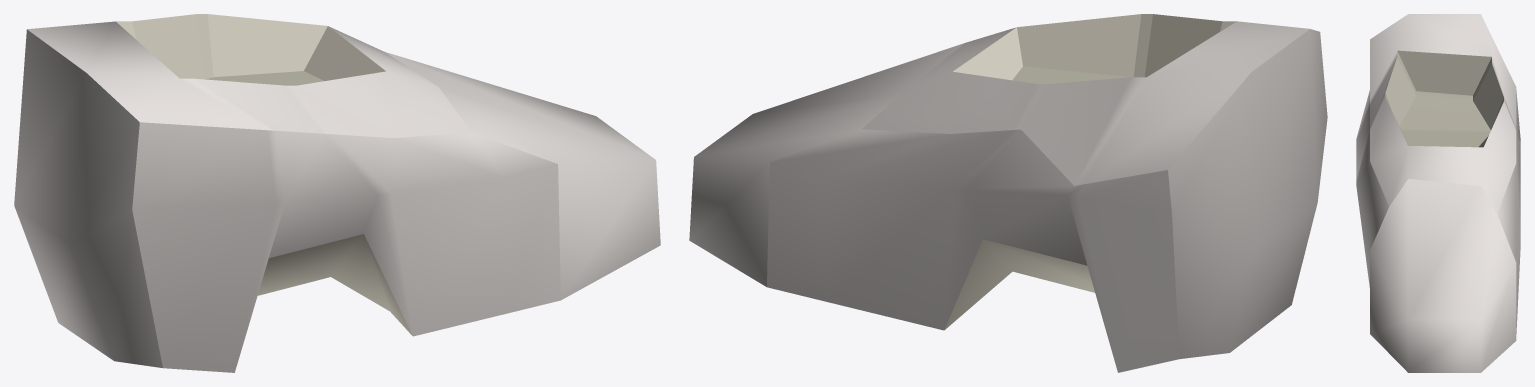
Rendered from shoe_heel.fbx.
3 renders of one model, left to right at view 1: azimuth 30°, elevation 25°; view 2: azimuth 150°, elevation 25°; view 3: azimuth 270°, elevation 25°, orthographic. The views are drawn at different scales.
Visible parts, largest first — view 1: pCube22; view 2: pCube22; view 3: pCube22.
Part boxes in pixels (box(x1,y1,x2,y2)): pCube22: box(14, 14, 660, 372); pCube22: box(689, 14, 1327, 372); pCube22: box(1356, 14, 1520, 372).
Bounding box in the file's own units: 1.12 × 0.5712 × 0.4502.
